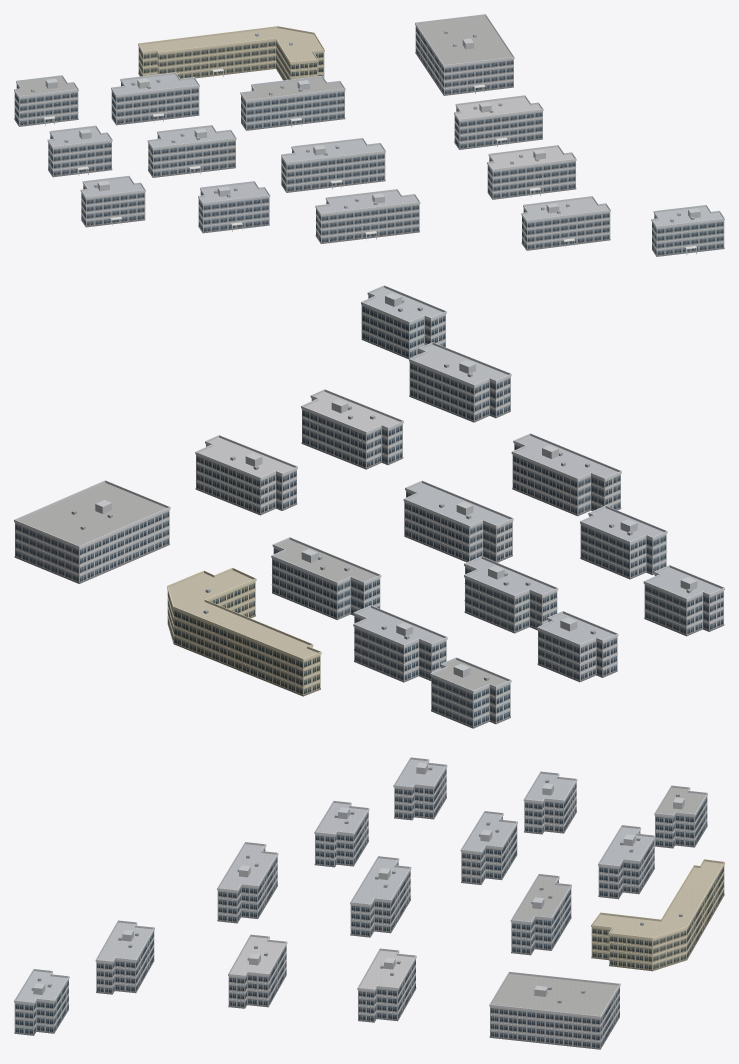
The picture shows the model from 3 angles, top to bottom: view 1: azimuth 30°, elevation 25°; view 2: azimuth 150°, elevation 25°; view 3: azimuth 270°, elevation 25°; orthographic projection. The views are drawn at different scales.
Visible parts, largest first — view 1: 1503264527, 1503264526, 1503264529, 1503264528, 1503264530, 1503264524, 1503264523, 1503264525, 1503264535, 1503264532, 1503264518, 1503264531 (+3 smaller); view 2: 1503264527, 1503264526, 1503264529, 1503264528, 1503264530, 1503264523, 1503264524, 1503264525, 1503264535, 1503264532, 1503264531, 1503264518 (+3 smaller); view 3: 1503264526, 1503264527, 1503264529, 1503264528, 1503264530, 1503264523, 1503264524, 1503264525, 1503264535, 1503264532, 1503264518, 1503264531 (+3 smaller).
Boxes of the visible parts, left/top/right/bottom form: 1503264527: left=138, top=26, right=324, bottom=80; 1503264526: left=415, top=14, right=514, bottom=95; 1503264529: left=281, top=138, right=385, bottom=192; 1503264528: left=315, top=189, right=420, bottom=243; 1503264530: left=240, top=75, right=345, bottom=130; 1503264524: left=487, top=145, right=576, bottom=199; 1503264523: left=521, top=196, right=610, bottom=250; 1503264525: left=454, top=95, right=543, bottom=149; 1503264535: left=111, top=72, right=199, bottom=125; 1503264532: left=147, top=125, right=236, bottom=177; 1503264518: left=651, top=205, right=724, bottom=256; 1503264531: left=198, top=181, right=270, bottom=233; 1503264527: left=167, top=567, right=321, bottom=696; 1503264526: left=14, top=480, right=170, bottom=583; 1503264529: left=403, top=480, right=513, bottom=562; 1503264528: left=511, top=433, right=621, bottom=516; 1503264530: left=271, top=537, right=381, bottom=619; 1503264523: left=409, top=342, right=511, bottom=422; 1503264524: left=301, top=389, right=403, bottom=469; 1503264525: left=195, top=435, right=297, bottom=515; 1503264535: left=353, top=605, right=447, bottom=682; 1503264532: left=464, top=556, right=558, bottom=633; 1503264531: left=580, top=505, right=667, bottom=579; 1503264518: left=361, top=285, right=446, bottom=359; 1503264526: left=489, top=971, right=620, bottom=1049; 1503264527: left=591, top=859, right=724, bottom=971; 1503264529: left=350, top=856, right=411, bottom=937; 1503264528: left=217, top=842, right=278, bottom=923; 1503264530: left=510, top=873, right=571, bottom=955; 1503264523: left=95, top=920, right=154, bottom=994; 1503264524: left=228, top=934, right=287, bottom=1008; 1503264525: left=357, top=948, right=416, bottom=1022; 1503264535: left=598, top=825, right=655, bottom=899; 1503264532: left=460, top=811, right=517, bottom=884; 1503264518: left=14, top=968, right=69, bottom=1035; 1503264531: left=314, top=800, right=369, bottom=867.
Bounding box in the file's own units: 265 × 18 × 307.
Materials: 3 (2 with a texture image).
